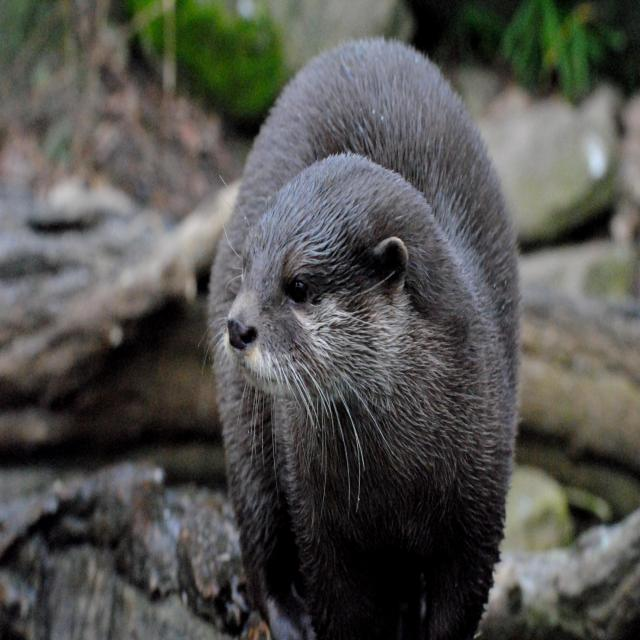otter: (214, 42, 520, 640)
